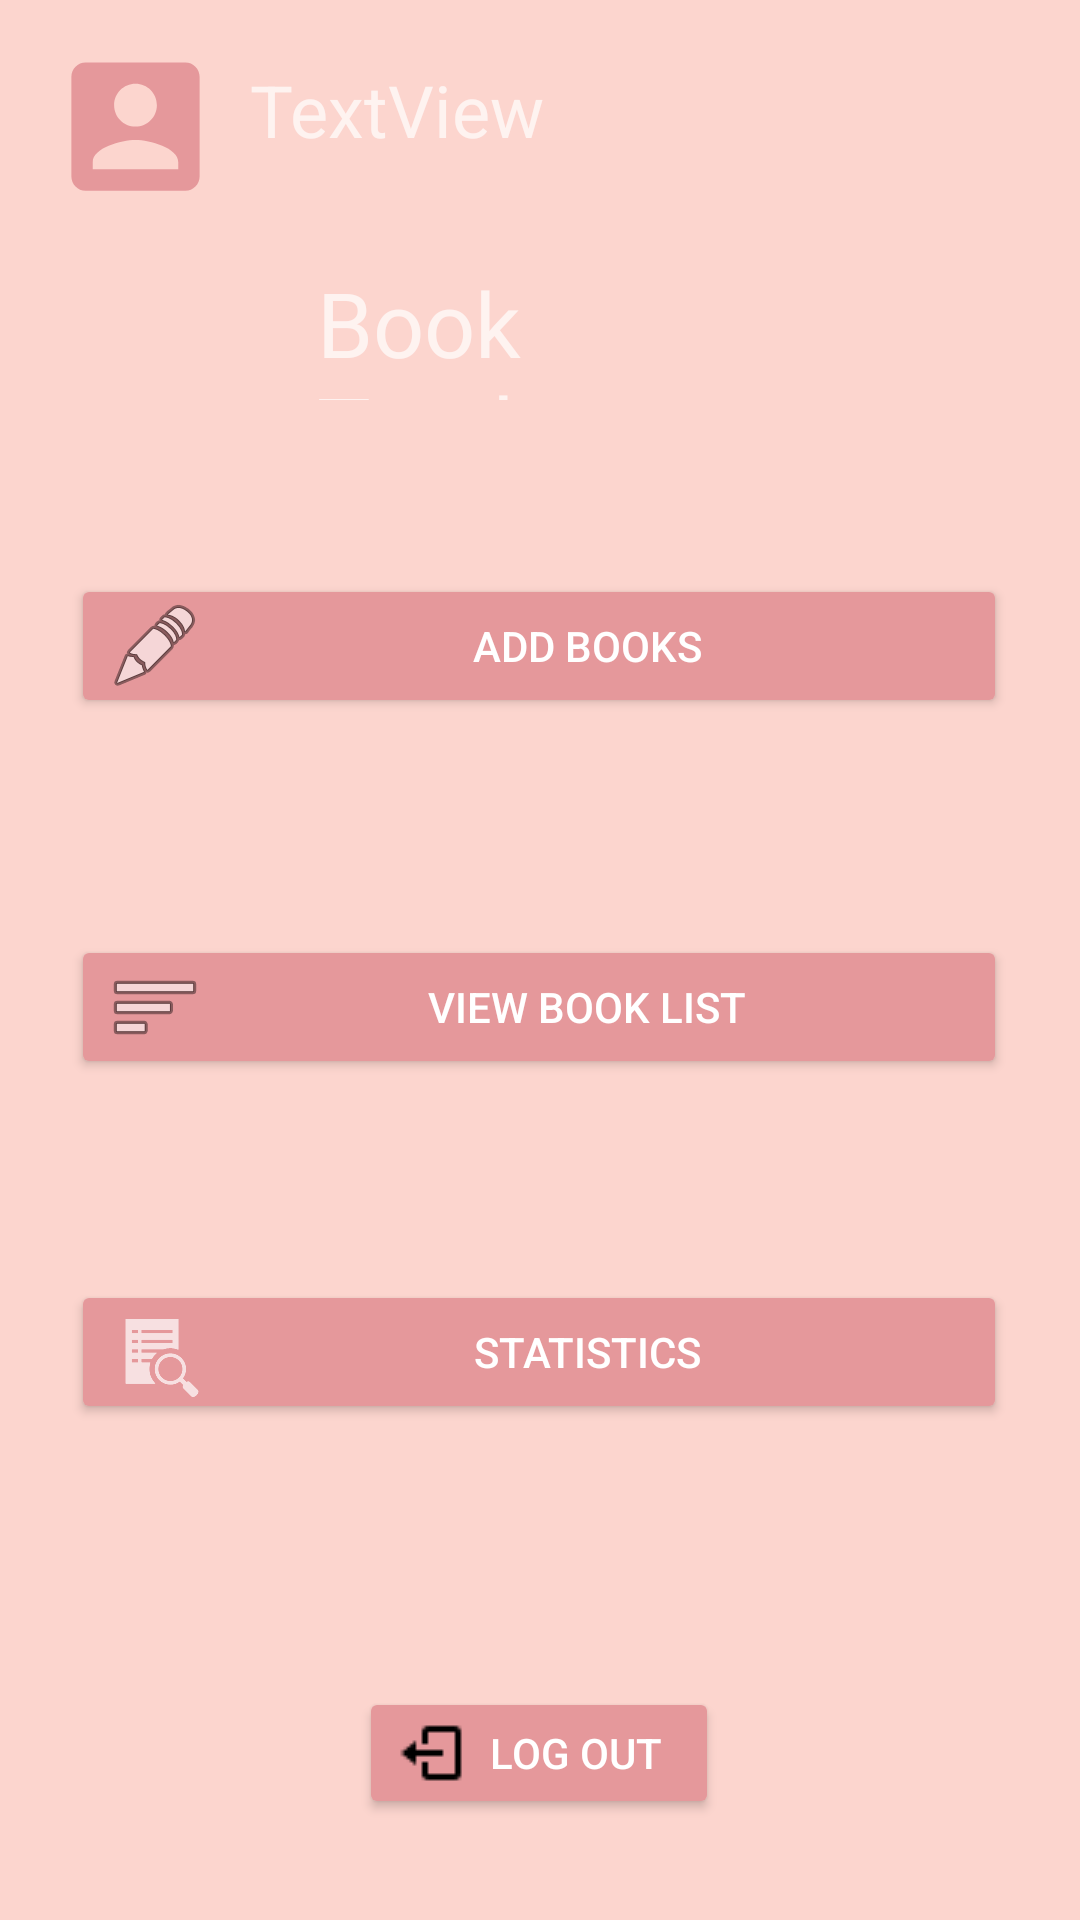

Where icons sit on this 1080w x 1920h app screen, as bbox=[x1, y1, x2, y2]:
accountbox: bbox=[71, 62, 200, 191]
